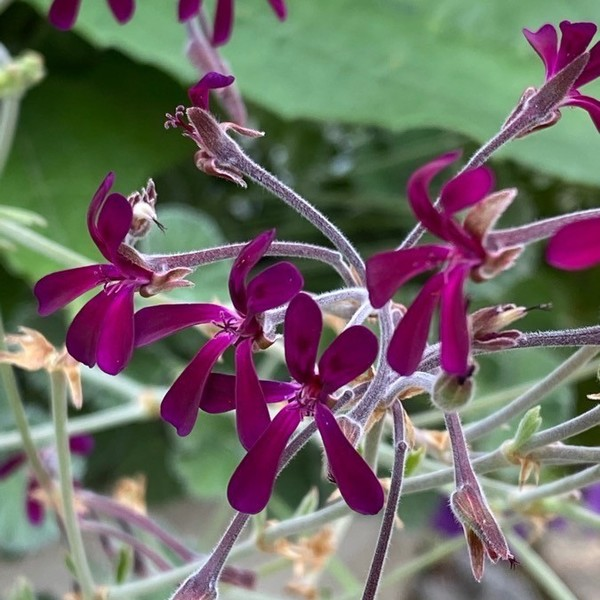obstacle: (76, 87, 560, 551)
